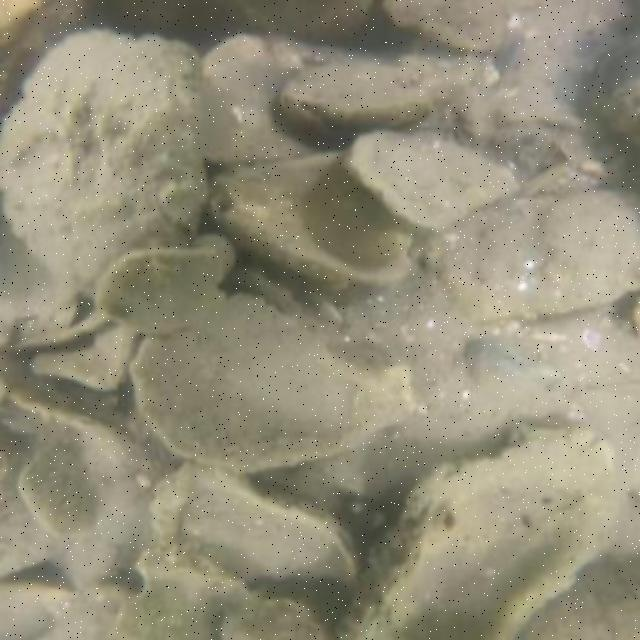Oyster-Closed: (331, 420, 623, 638), (0, 28, 213, 295), (127, 286, 428, 474), (207, 146, 418, 293), (149, 460, 362, 592), (347, 124, 522, 234), (273, 54, 479, 136), (92, 246, 225, 335), (380, 0, 512, 51)
